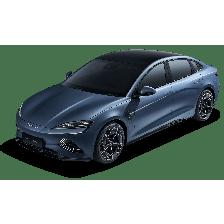EV: (15, 48, 221, 165)
